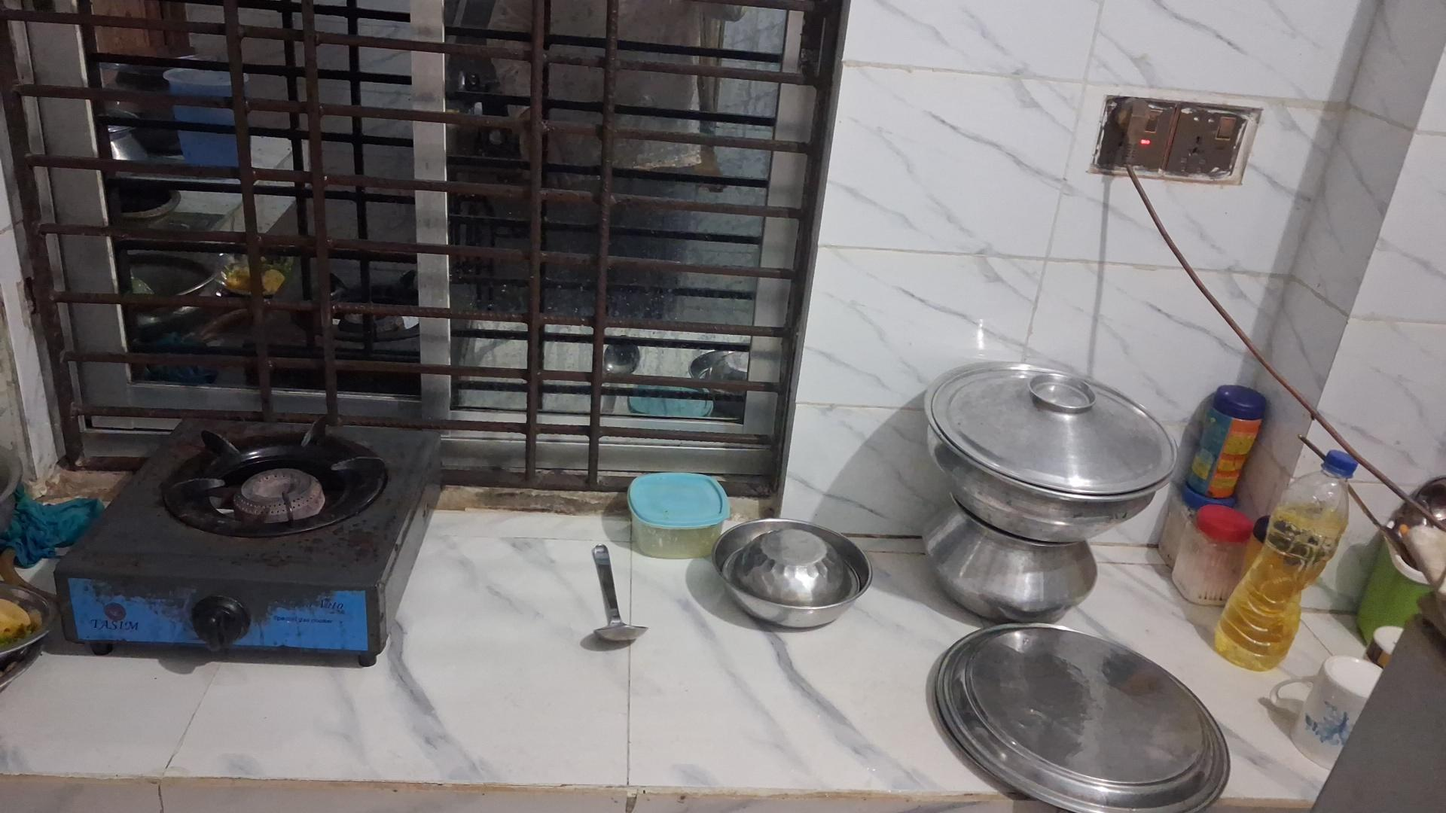Bottle: (1212, 448, 1358, 672)
Bowl: (711, 519, 872, 630)
Cup: (1302, 654, 1383, 748)
Jar: (627, 471, 731, 559), (1193, 377, 1266, 497), (1175, 504, 1245, 608)
Plate: (935, 630, 1235, 813)
Pot: (924, 359, 1175, 544), (924, 499, 1099, 622)
Spoon: (591, 543, 647, 645)
